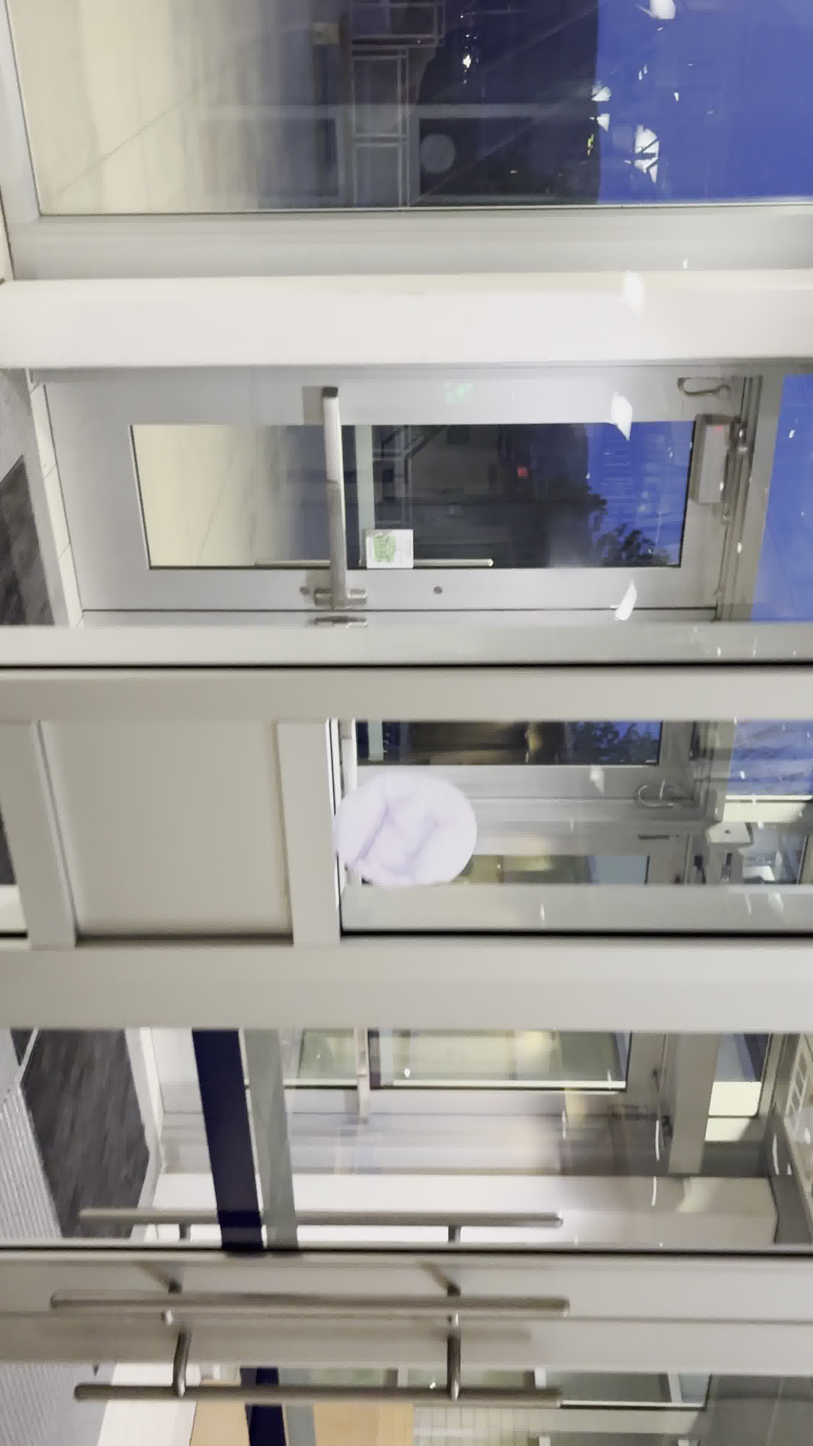Target: (330, 769, 479, 890)
